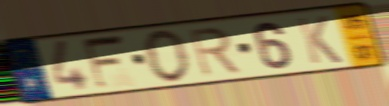4: (52, 38, 91, 96)
6: (251, 20, 295, 71)
F: (79, 32, 128, 93)
K: (294, 14, 345, 66)
O: (142, 28, 193, 84)
R: (186, 25, 244, 79)
